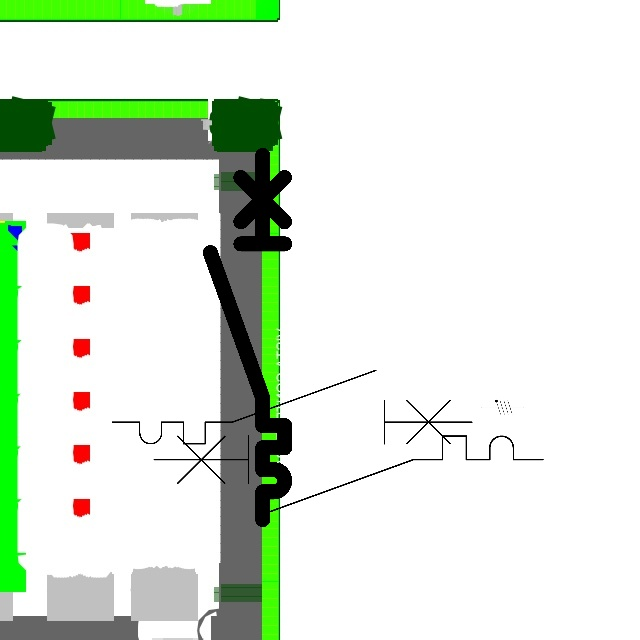interruptor_termomagnetico: (144, 426, 553, 526), (201, 146, 294, 529), (103, 361, 481, 453)
